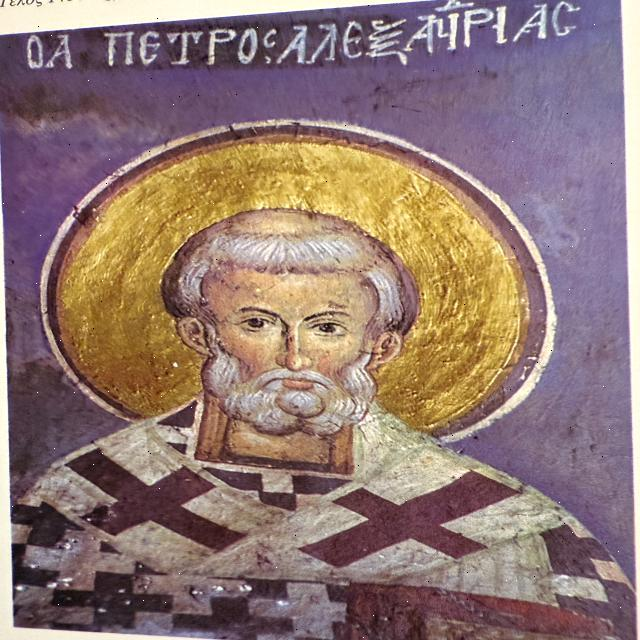aura: (35, 121, 557, 444)
church_father: (15, 117, 623, 640)
